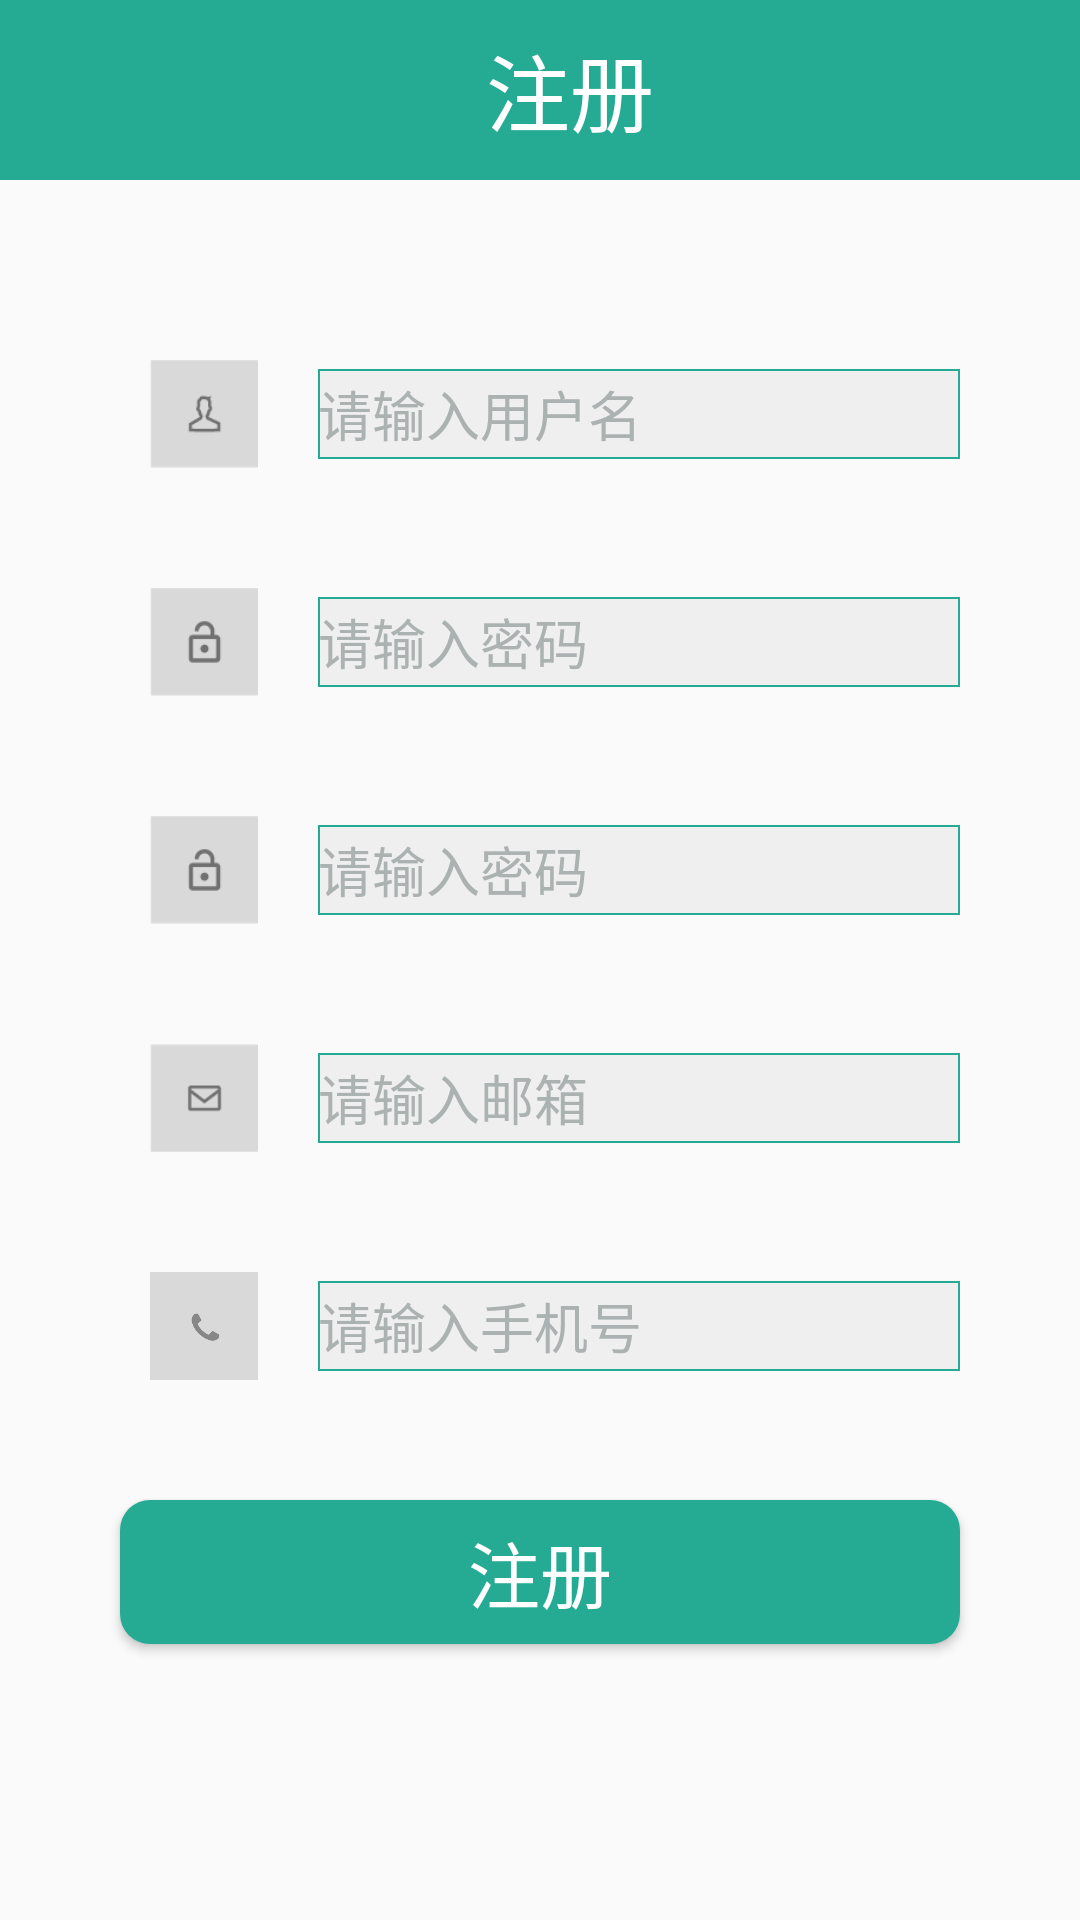

Icons on this 1080x1920 Android screen, each with its box as (x1, y1, x2, y2):
email: (151, 1045, 258, 1152)
password: (151, 588, 258, 695), (151, 816, 258, 923)
phone: (150, 1272, 258, 1380)
username: (151, 360, 258, 467)
